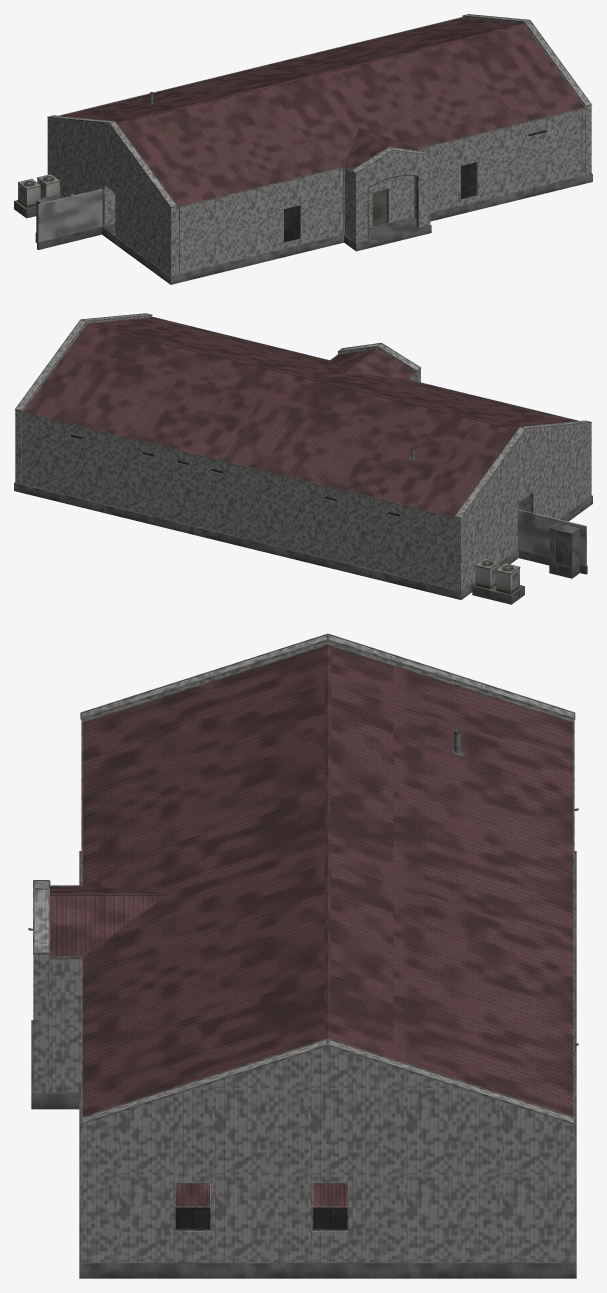
The model's file is city_house_2.glb.
3 renders of one model, top to bottom at view 1: azimuth 30°, elevation 25°; view 2: azimuth 150°, elevation 25°; view 3: azimuth 270°, elevation 25°, orthographic. The views are drawn at different scales.
Visible parts, largest first — view 1: CityHouse2; view 2: CityHouse2; view 3: CityHouse2.
Boxes of the visible parts, left/top/right/bottom form: CityHouse2: left=14, top=14, right=592, bottom=284; CityHouse2: left=14, top=313, right=592, bottom=604; CityHouse2: left=28, top=633, right=578, bottom=1278.
Size of the model in its own units: 30.18 by 6.77 by 14.46.
4 materials, 4 textured.
